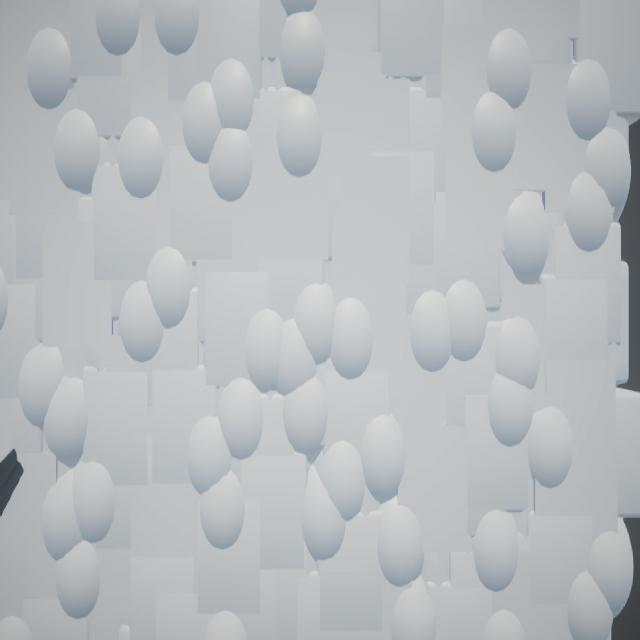handle_folk: (1, 449, 26, 518)
